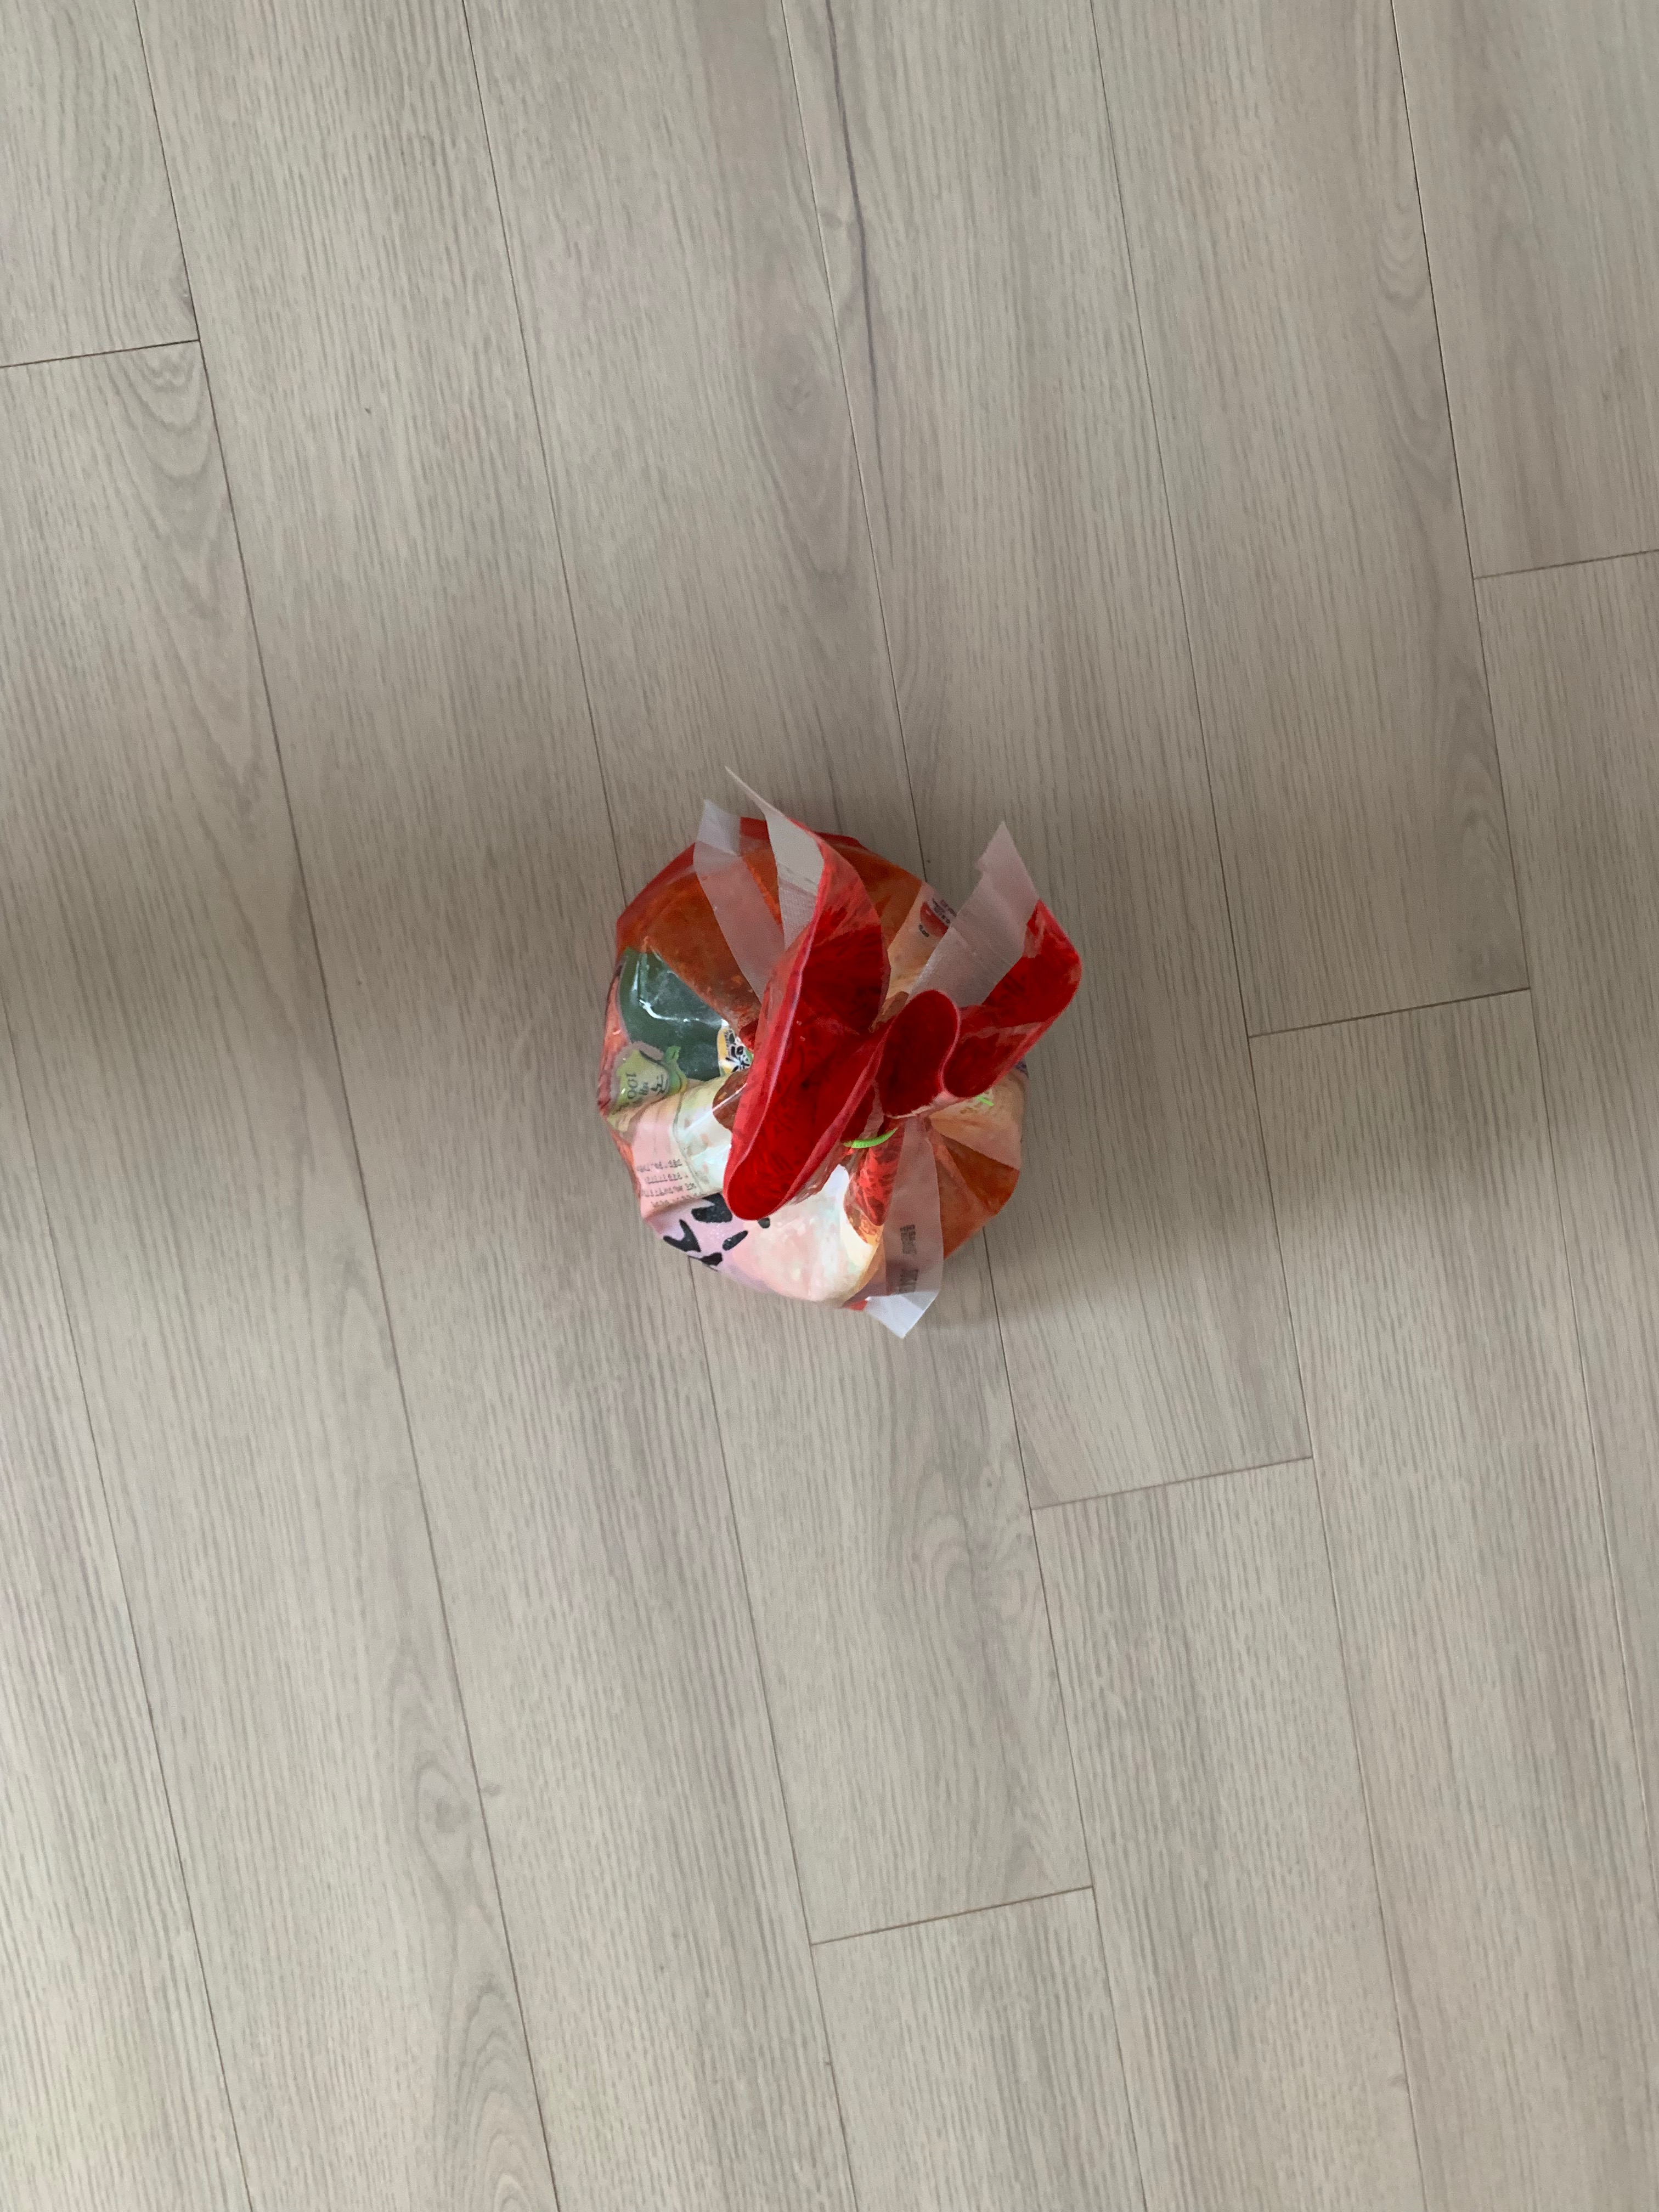kimchi: (601, 806, 1082, 1306)
